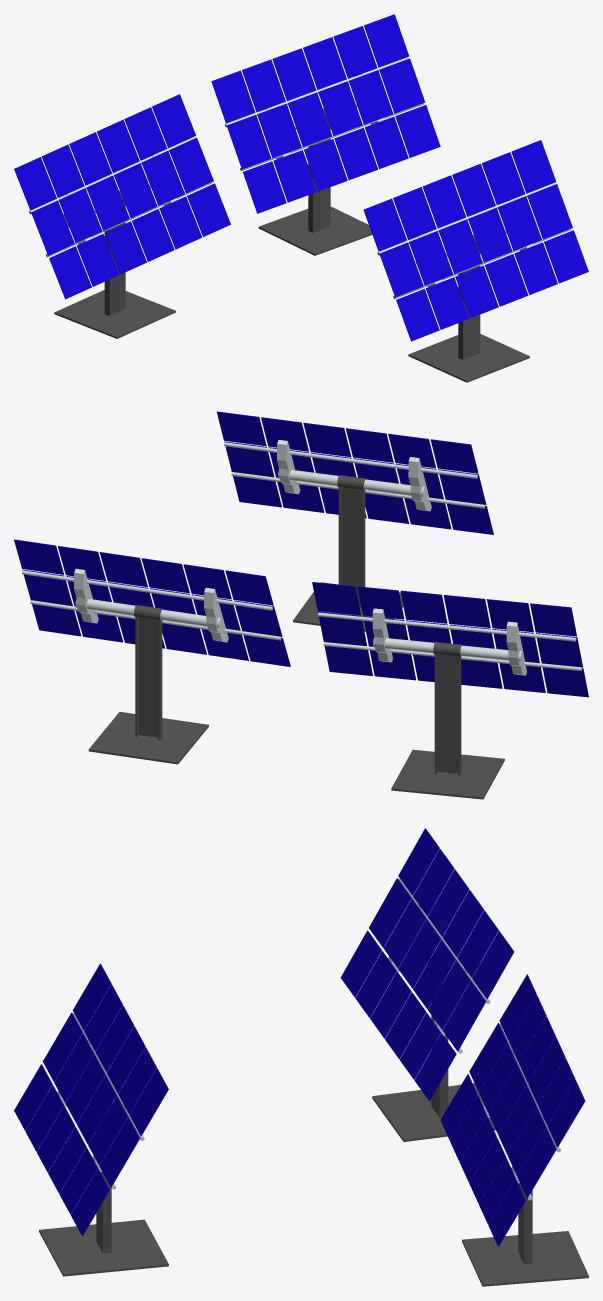
File: solar-panels.gltf
3 renders of one model, top to bottom at view 1: azimuth 30°, elevation 25°; view 2: azimuth 150°, elevation 25°; view 3: azimuth 270°, elevation 25°, orthographic. The views are drawn at different scales.
Visible parts, largest first — view 1: Cylinder.140, Cylinder.098, Cylinder.141, Cube.092, Cube.134, Cube.135; view 2: Cylinder.141, Cylinder.098, Cylinder.140, Cube.135, Cube.134, Cube.092; view 3: Cylinder.141, Cylinder.098, Cylinder.140, Cube.134, Cube.092, Cube.135.
Part boxes in pixels (left/top/right/bottom): Cylinder.140: left=211, top=14, right=440, bottom=213; Cylinder.098: left=363, top=140, right=588, bottom=341; Cylinder.141: left=14, top=94, right=230, bottom=299; Cube.092: left=408, top=235, right=529, bottom=382; Cube.134: left=258, top=108, right=372, bottom=255; Cube.135: left=54, top=191, right=175, bottom=338; Cylinder.141: left=312, top=582, right=588, bottom=697; Cylinder.098: left=217, top=411, right=493, bottom=534; Cylinder.140: left=14, top=539, right=290, bottom=666; Cube.135: left=391, top=642, right=504, bottom=799; Cube.134: left=88, top=605, right=208, bottom=764; Cube.092: left=293, top=475, right=403, bottom=631; Cylinder.141: left=340, top=828, right=514, bottom=1101; Cylinder.098: left=14, top=963, right=168, bottom=1236; Cylinder.140: left=440, top=974, right=585, bottom=1246; Cube.134: left=462, top=1183, right=588, bottom=1286; Cube.092: left=39, top=1105, right=168, bottom=1276; Cube.135: left=372, top=959, right=495, bottom=1141.
Bounding box in the file's own units: 8.22 × 3.01 × 7.14.
